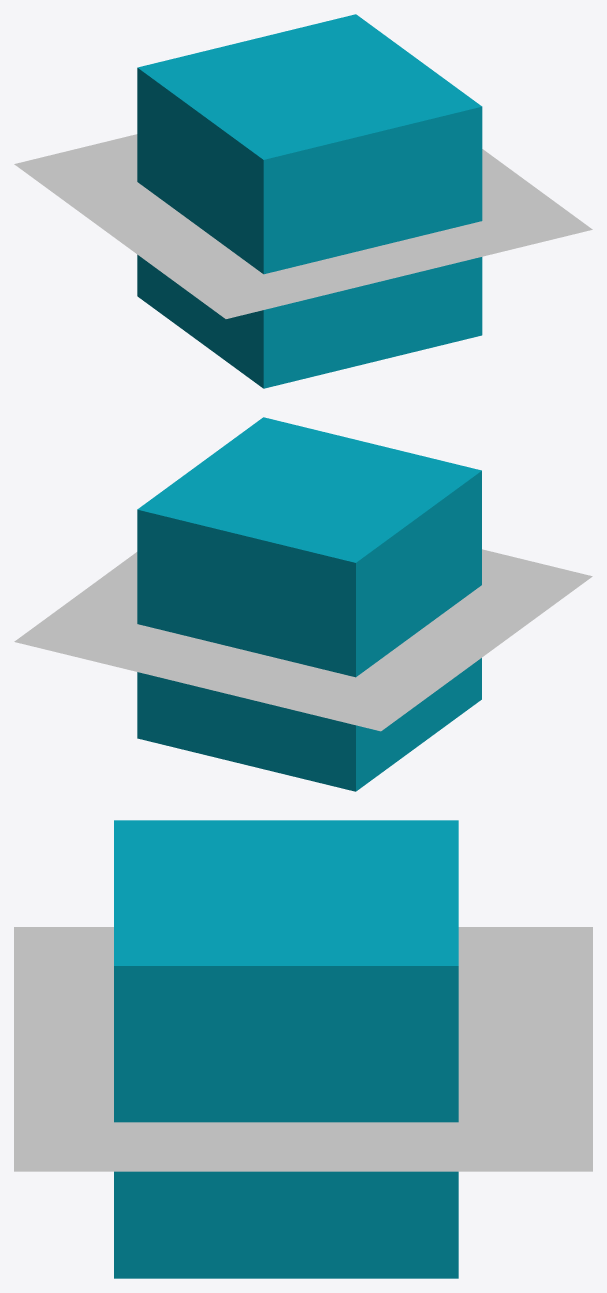
Rendered from Hip¢lito.dae.
3 views of the same model, one above another, from view 1: azimuth 30°, elevation 25°; view 2: azimuth 150°, elevation 25°; view 3: azimuth 270°, elevation 25° (orthographic). The views are drawn at different scales.
Parts seen in each view (by area): view 1: Cube_002, Plane_001; view 2: Cube_002, Plane_001; view 3: Cube_002, Plane_001.
Part boxes in pixels (bbox=[...]): Cube_002: bbox=[137, 14, 482, 388]; Plane_001: bbox=[14, 134, 592, 318]; Cube_002: bbox=[137, 417, 481, 791]; Plane_001: bbox=[14, 549, 592, 731]; Cube_002: bbox=[114, 820, 458, 1278]; Plane_001: bbox=[14, 927, 592, 1171].
Size of the model in its own units: 148 by 148 by 87.97.
